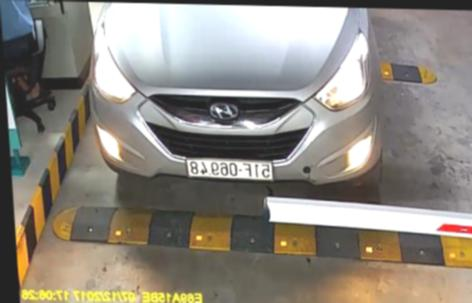License_Plate: (185, 153, 275, 184)
